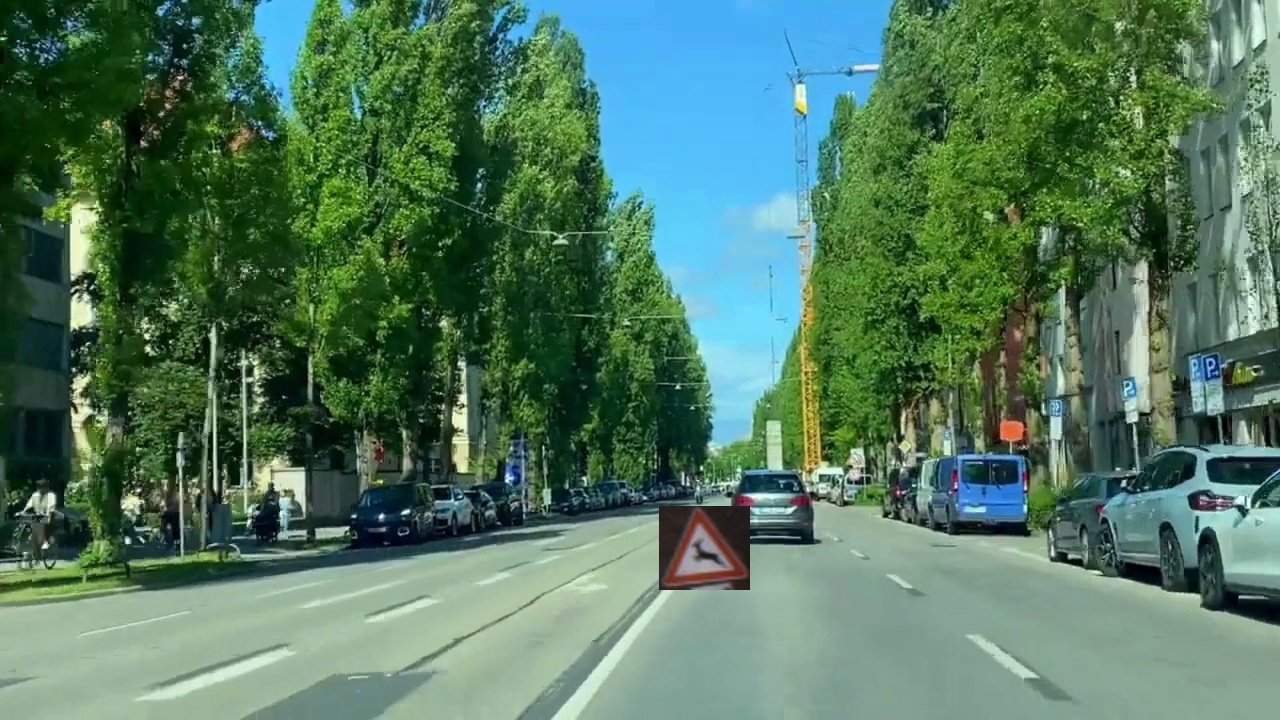Wild animals: (659, 506, 750, 590)
